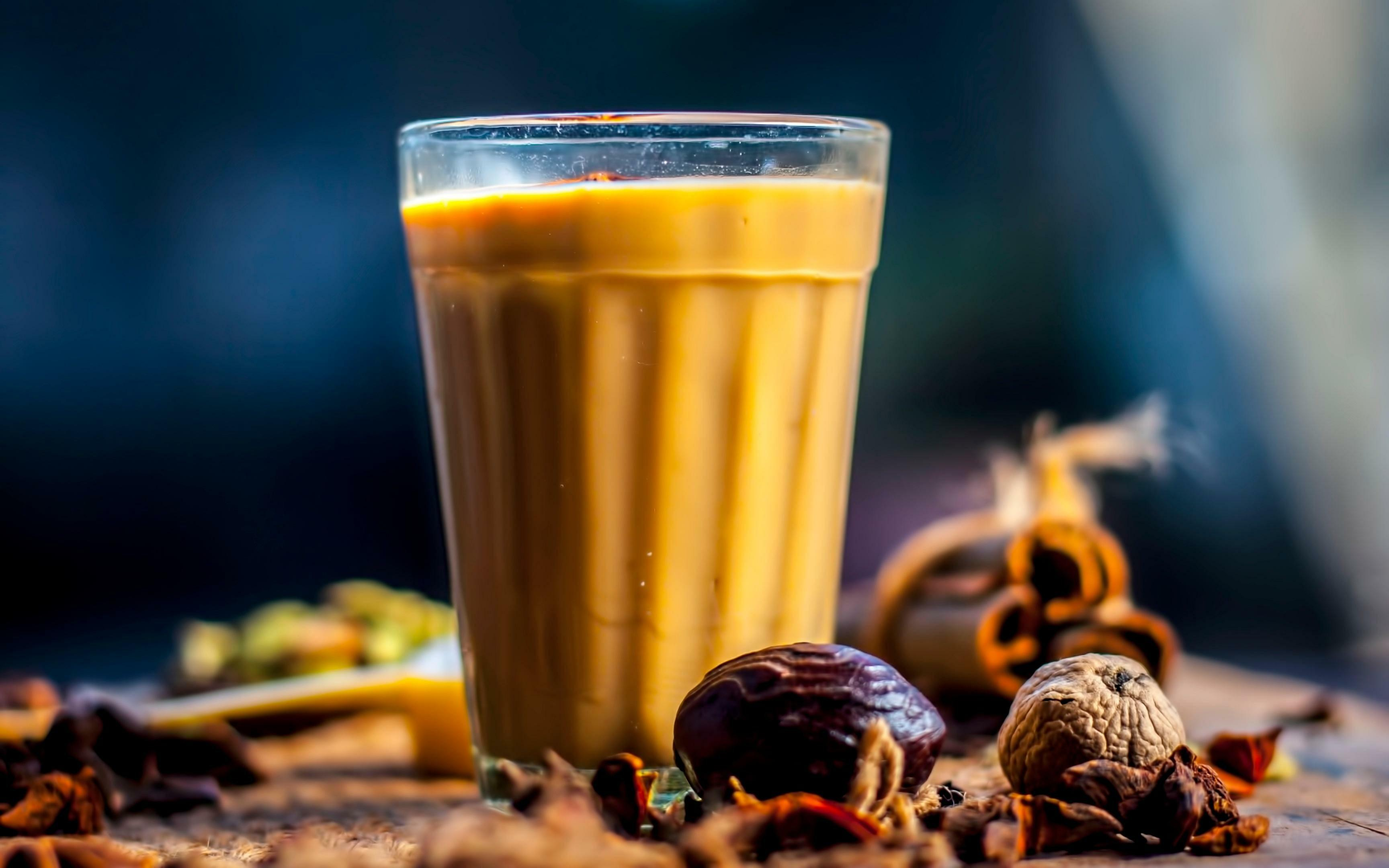Chai: (400, 175, 883, 764)
